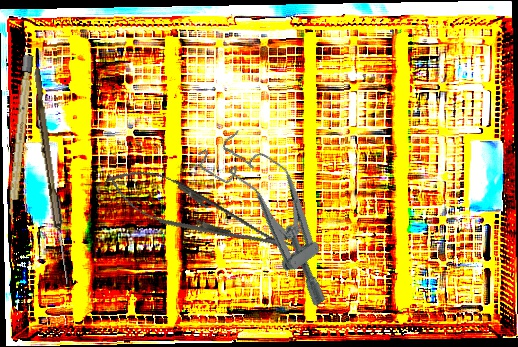Needle Holder: (98, 155, 301, 272)
Scalpel Handle: (6, 54, 34, 222)
Speculum: (192, 116, 361, 316)
Surgical Spoon: (28, 67, 74, 286)
